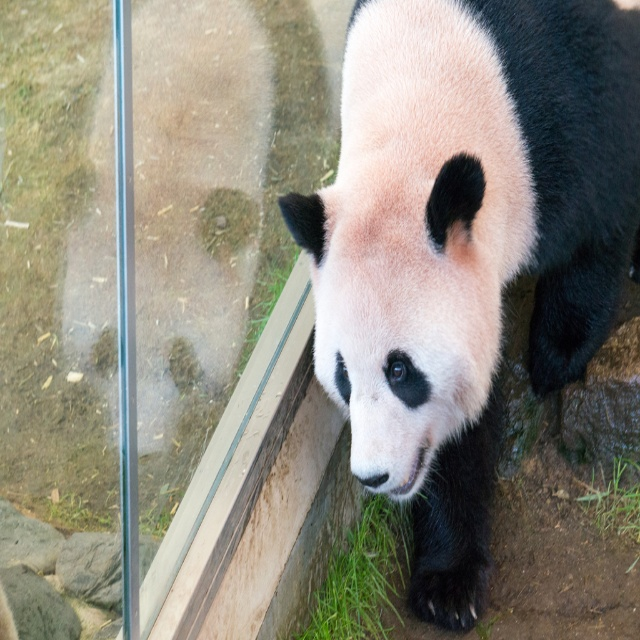Panda: (279, 0, 640, 635)
